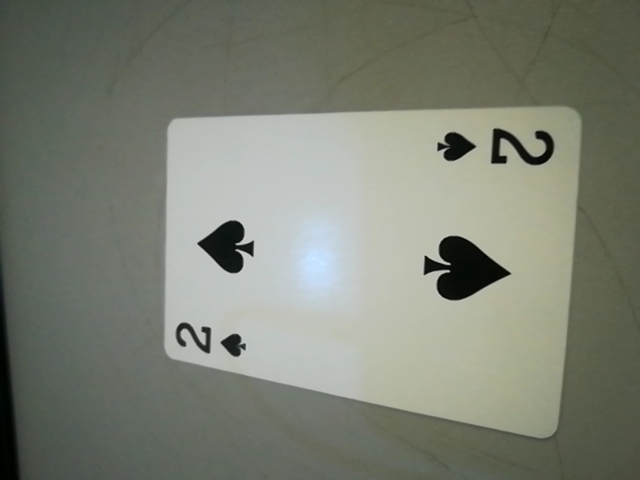ht 2: (420, 119, 570, 175)
